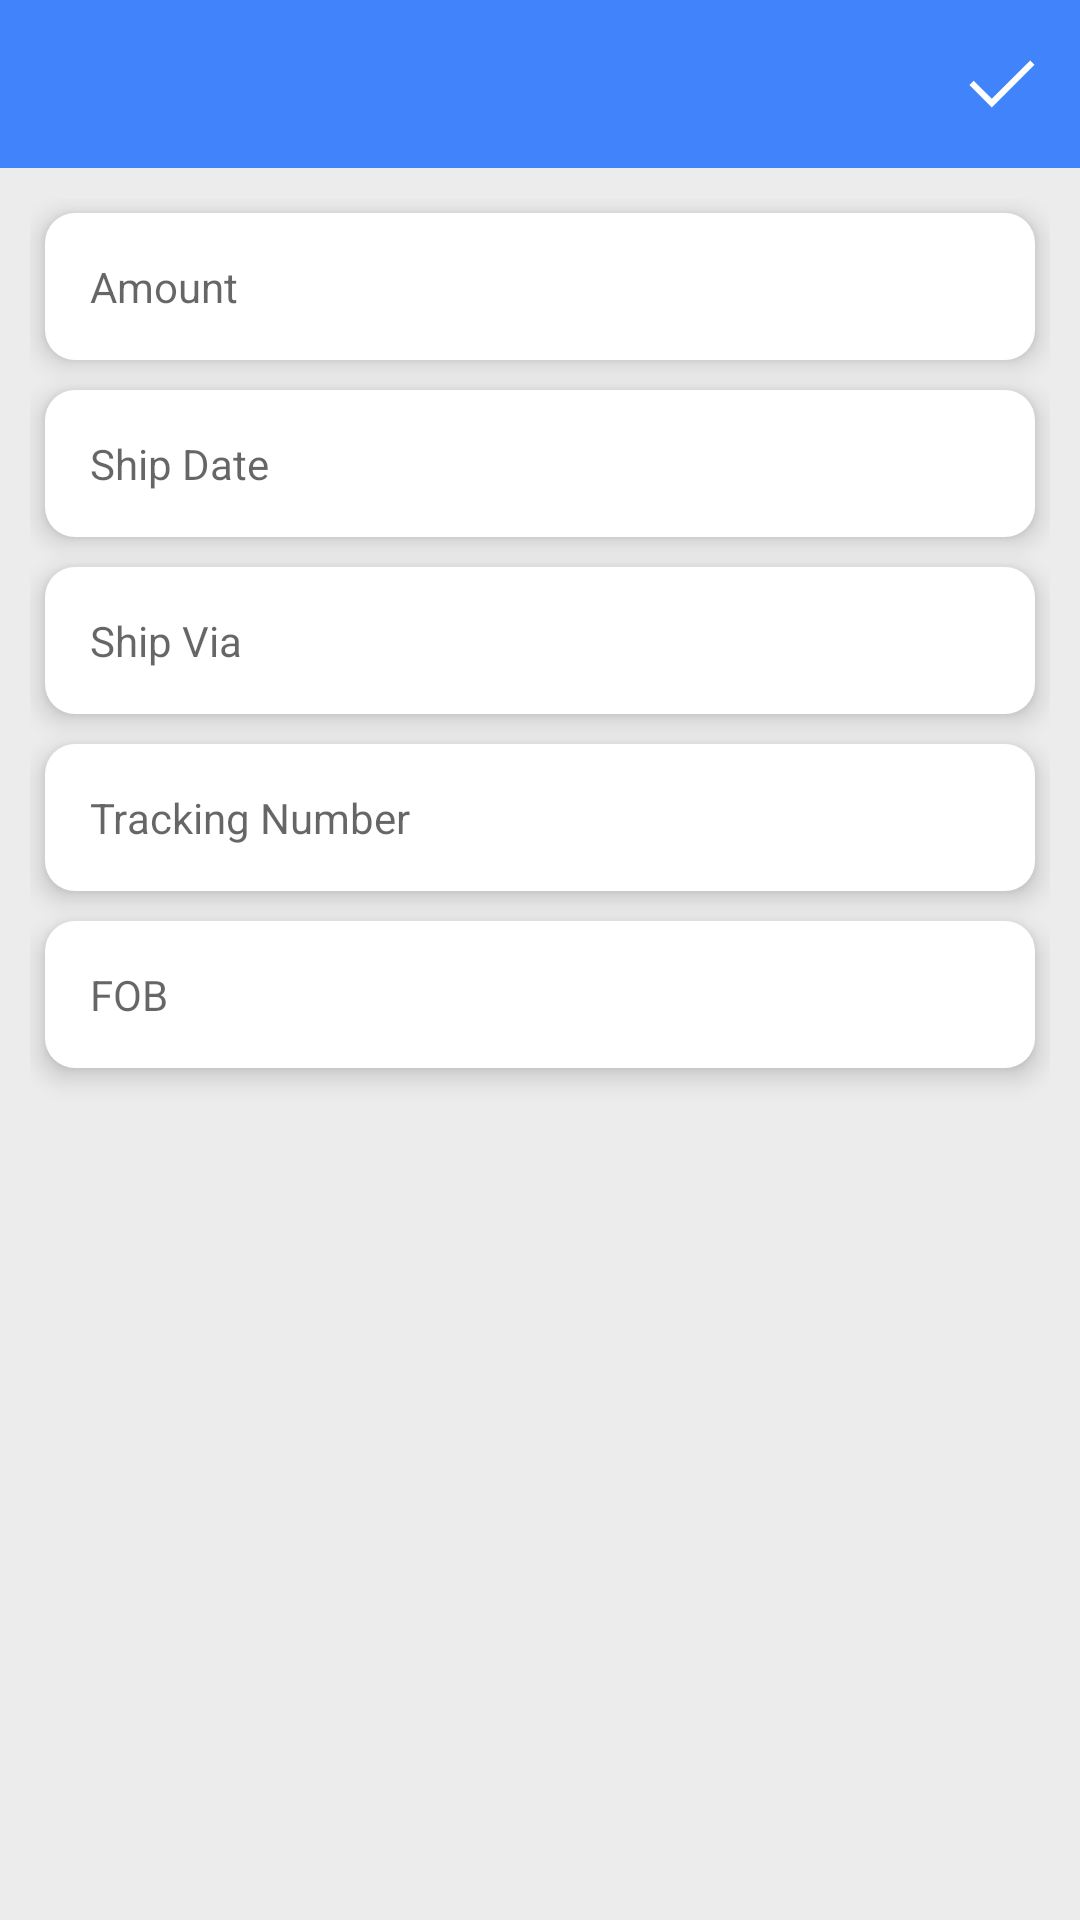

Icons on this 1080px x 1920px Android screen, each with its box as rect(x1, y1, x2, y2):
done: rect(969, 60, 1035, 108)
